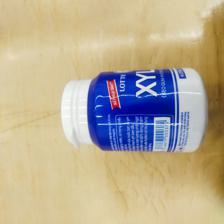Xylitol_blue: (58, 67, 208, 153)
